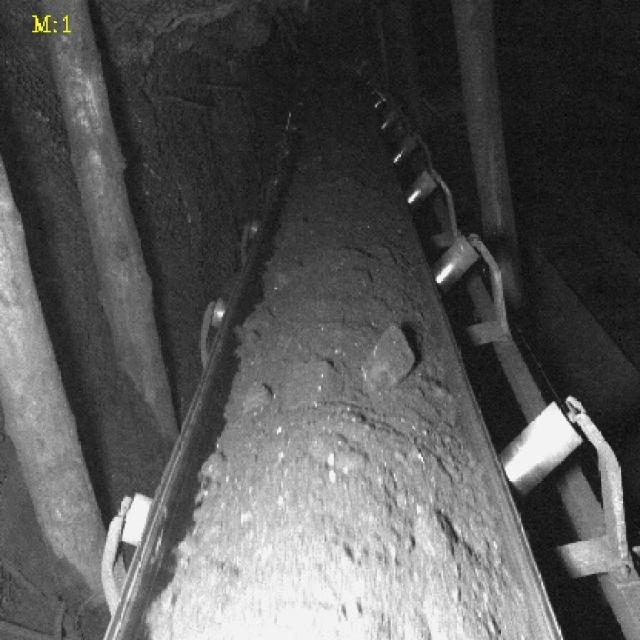large_sized_coal: (363, 320, 419, 386), (280, 360, 343, 402)
